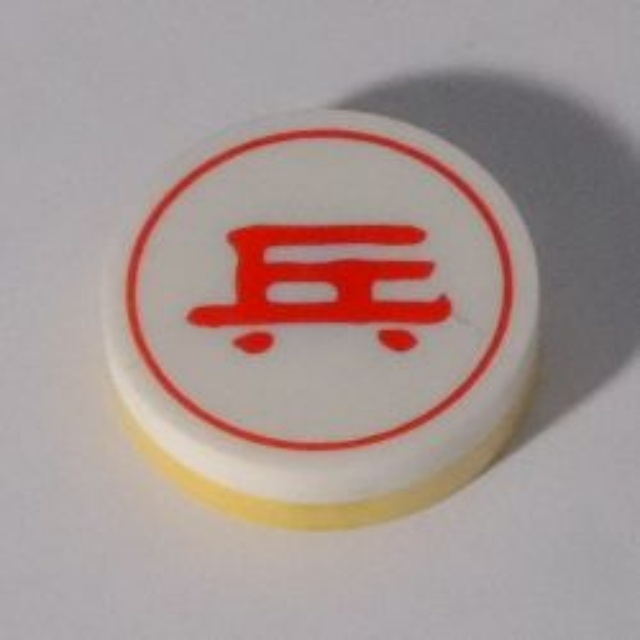red_chot: (90, 99, 553, 526)
